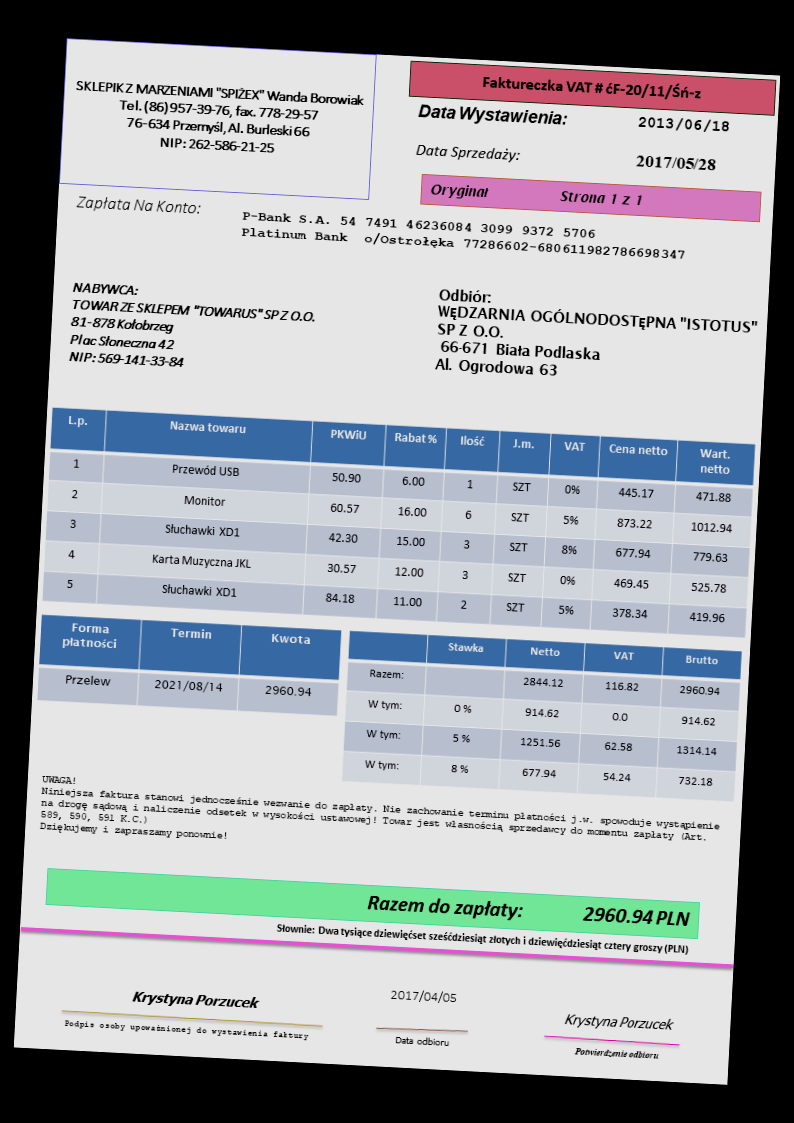Table: (41, 407, 757, 640), (340, 630, 745, 802), (35, 613, 342, 717)
TextBox: (36, 772, 723, 871), (433, 286, 761, 392), (238, 207, 690, 265), (70, 74, 366, 162), (65, 279, 321, 378), (274, 920, 691, 959), (364, 892, 692, 931), (61, 1016, 309, 1045), (480, 72, 704, 103), (430, 180, 647, 209), (416, 101, 570, 130), (130, 989, 262, 1014), (73, 194, 204, 219), (562, 1010, 676, 1035), (414, 142, 521, 165), (636, 113, 731, 137), (387, 983, 459, 1008), (635, 153, 717, 174), (573, 1045, 662, 1062), (393, 1032, 452, 1050)
